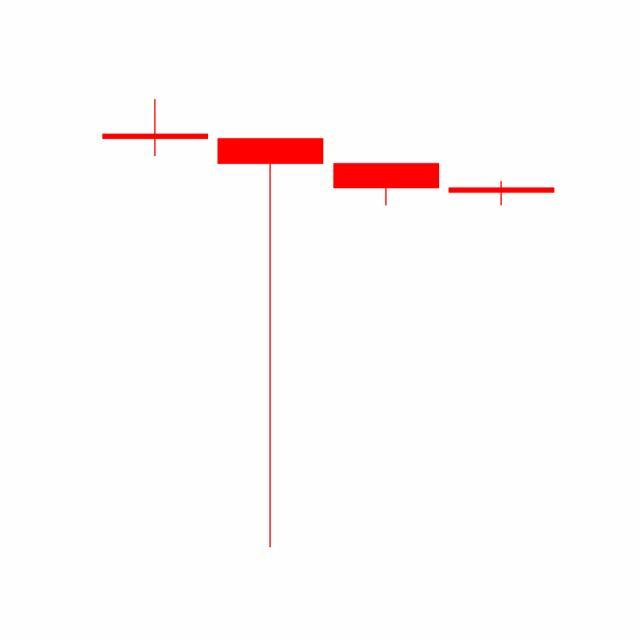Hammer: (444, 182, 560, 207)
